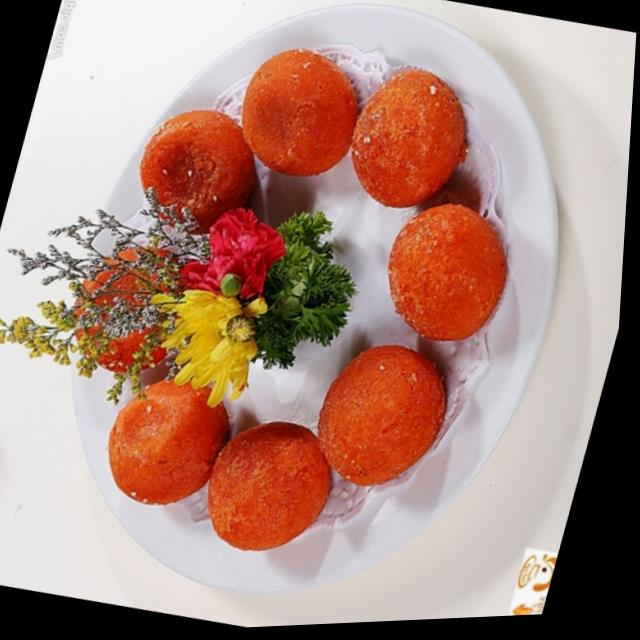炸货点心: (0, 0, 613, 640)
蛋糕甜品: (0, 0, 613, 640)
